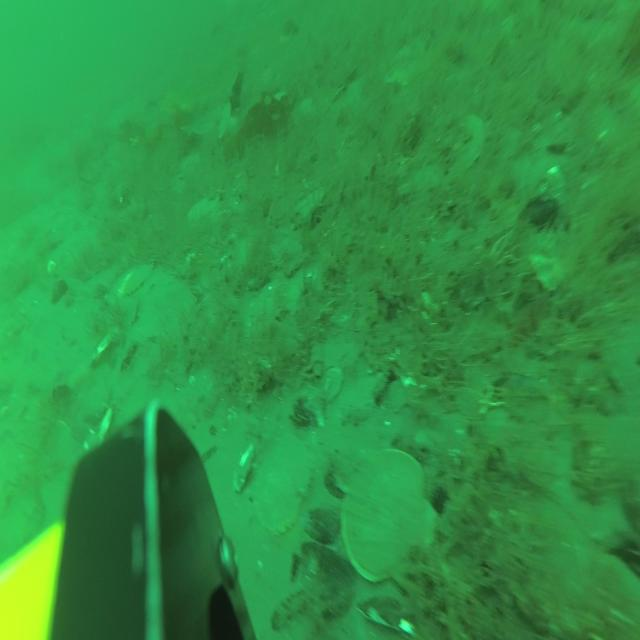scallop: (341, 448, 440, 596), (255, 435, 312, 533), (450, 115, 486, 176), (107, 260, 155, 301), (187, 197, 221, 221)
